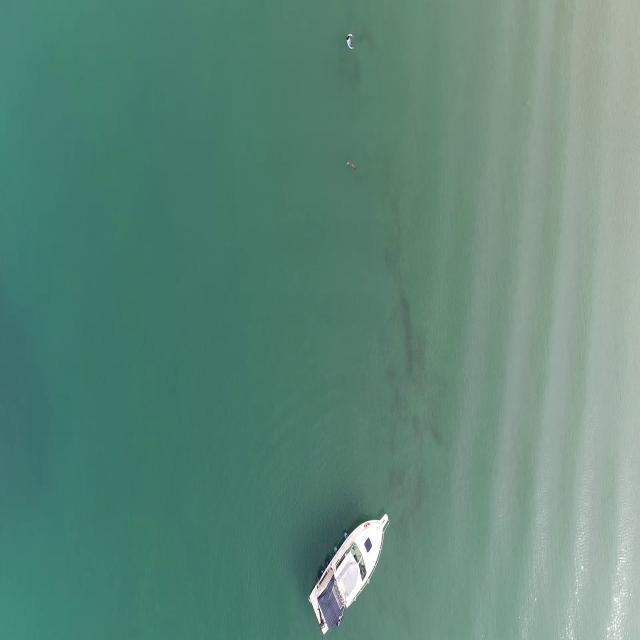boat: (310, 512, 389, 630)
person: (346, 32, 356, 54)
wood: (346, 158, 358, 172)
